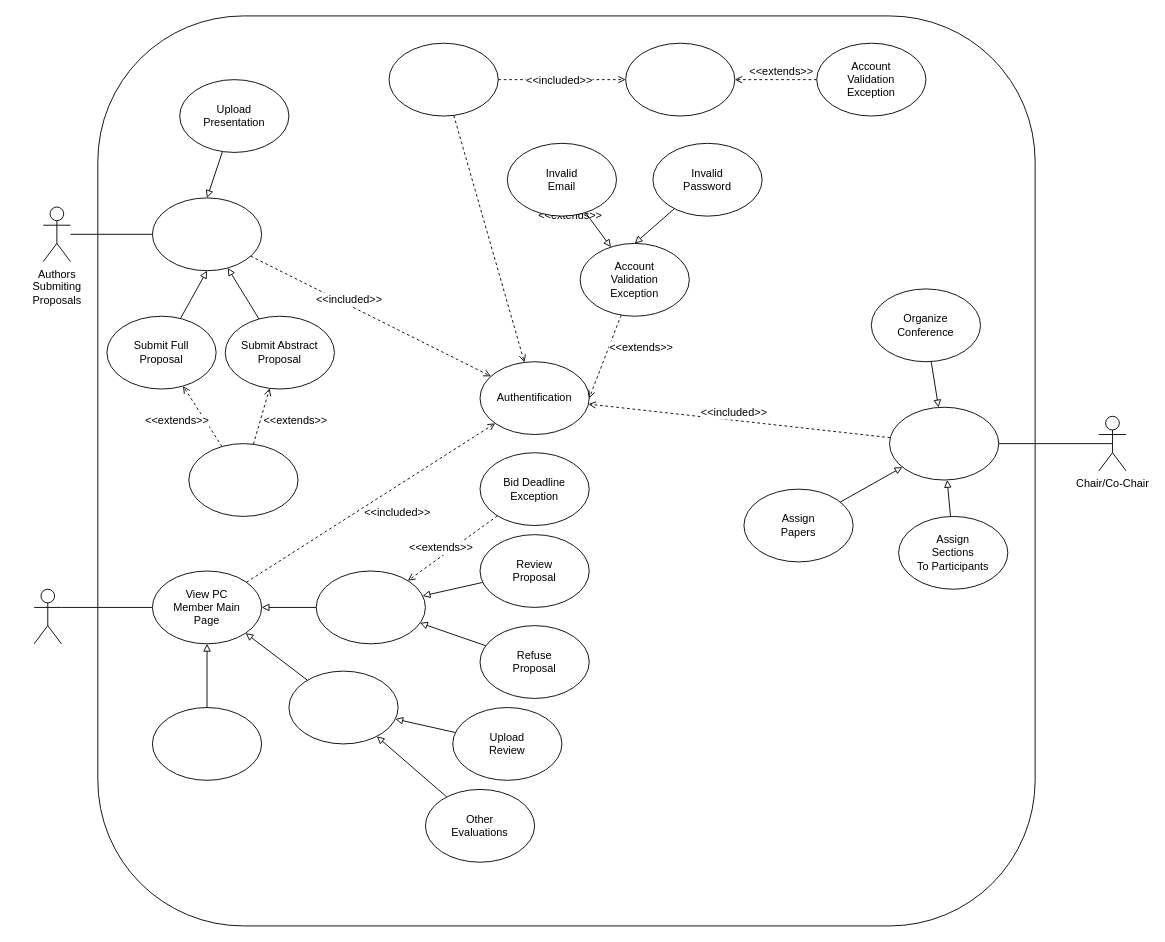
The diagram is 1165 pixels wide and 942 high, and some of its shapes have lost their labels. The centre of each missing label's shape, as x and y in pixels:
"Account Validation" belongs at (x=680, y=79).
"Bid Proposal" belongs at (x=370, y=607).
"Create User Account" belongs at (x=443, y=79).
"Deadline Exception" belongs at (x=243, y=479).
"Evaluate Review" belongs at (x=343, y=707).
"Notify Author" belongs at (x=207, y=743).
"PC Members" belongs at (x=47, y=616).
"View Author Main Page" belongs at (x=207, y=234).
"View Chair/Co-Chair Main Page" belongs at (x=944, y=443).
